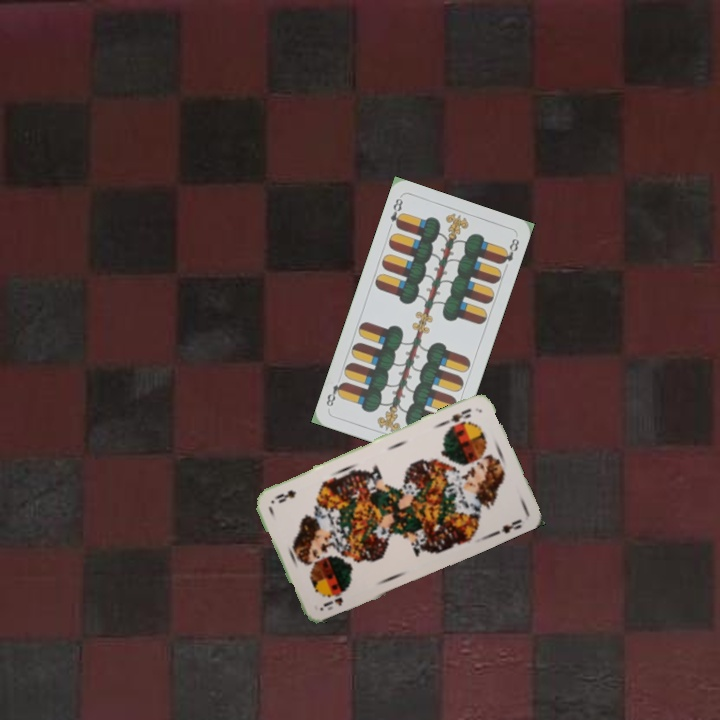E8: (386, 194, 406, 231)
SO: (440, 404, 474, 428), (319, 593, 346, 613)
